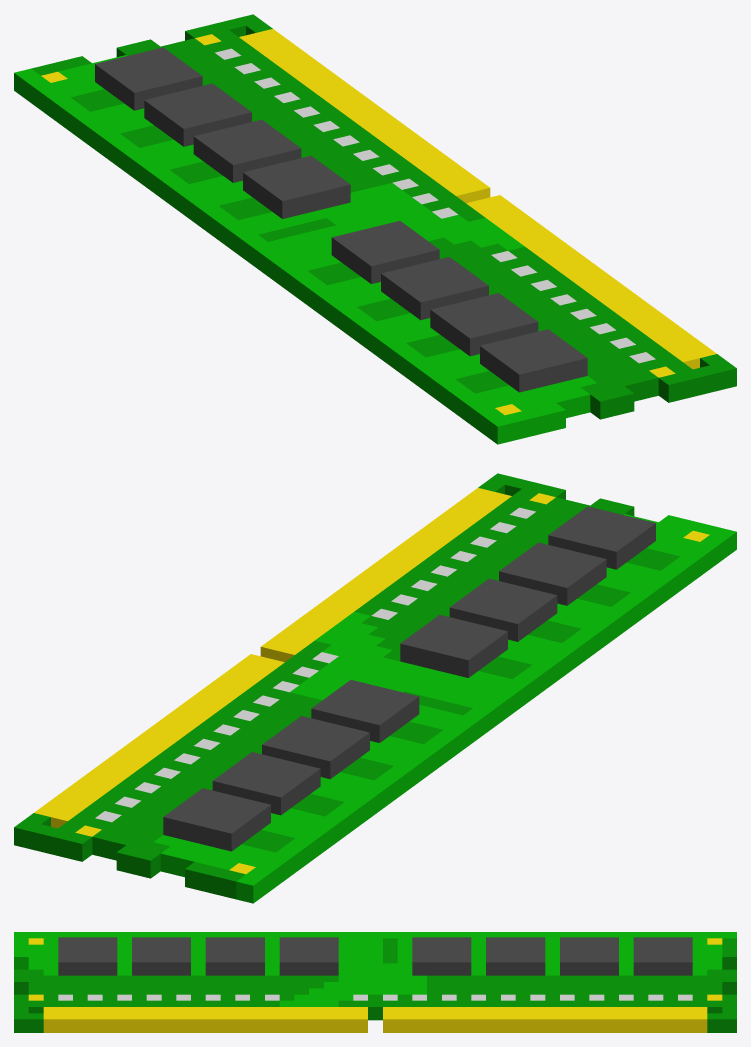
Rendered from FreeRam.obj.
The picture shows the model from 3 angles, top to bottom: view 1: azimuth 30°, elevation 25°; view 2: azimuth 150°, elevation 25°; view 3: azimuth 270°, elevation 25°; orthographic projection. The views are drawn at different scales.
Parts seen in each view (by area): view 1: Object_5_VoxMaterial_230.001, Object_5_VoxMaterial_232.001, Object_5_VoxMaterial_255.001, Object_5_VoxMaterial_12.001, Object_5_VoxMaterial_248.001; view 2: Object_5_VoxMaterial_232.001, Object_5_VoxMaterial_230.001, Object_5_VoxMaterial_255.001, Object_5_VoxMaterial_12.001, Object_5_VoxMaterial_248.001; view 3: Object_5_VoxMaterial_232.001, Object_5_VoxMaterial_255.001, Object_5_VoxMaterial_12.001, Object_5_VoxMaterial_230.001, Object_5_VoxMaterial_248.001.
Part boxes in pixels (x1,y1,x2,y2): Object_5_VoxMaterial_230.001: (14, 55, 596, 444); Object_5_VoxMaterial_232.001: (31, 14, 736, 419); Object_5_VoxMaterial_255.001: (95, 47, 587, 392); Object_5_VoxMaterial_12.001: (41, 29, 716, 415); Object_5_VoxMaterial_248.001: (215, 48, 655, 363); Object_5_VoxMaterial_232.001: (14, 473, 679, 899); Object_5_VoxMaterial_230.001: (154, 514, 736, 903); Object_5_VoxMaterial_255.001: (163, 506, 655, 851); Object_5_VoxMaterial_12.001: (34, 488, 709, 874); Object_5_VoxMaterial_248.001: (95, 507, 535, 822); Object_5_VoxMaterial_232.001: (14, 938, 736, 1032); Object_5_VoxMaterial_255.001: (58, 937, 692, 975); Object_5_VoxMaterial_12.001: (28, 938, 722, 1032); Object_5_VoxMaterial_230.001: (14, 932, 736, 1006); Object_5_VoxMaterial_248.001: (58, 994, 692, 1000).
Bounding box in the file's own units: 0.14 × 0.02 × 0.49.
